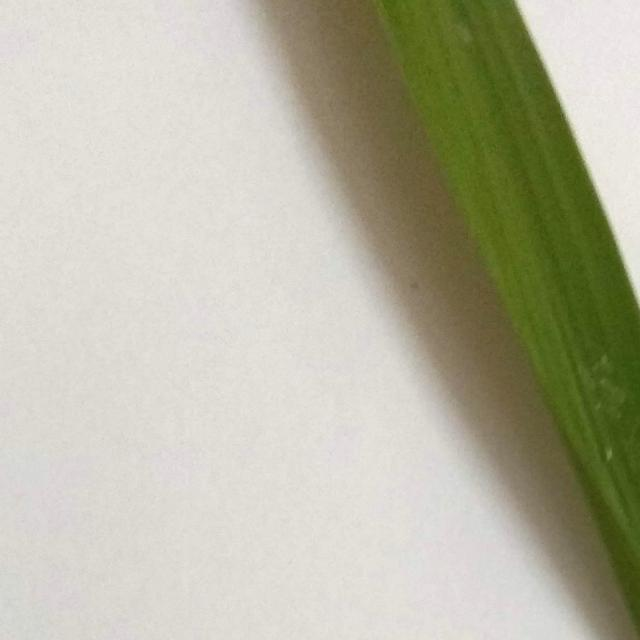Rice_Healthy: (376, 0, 640, 630)
